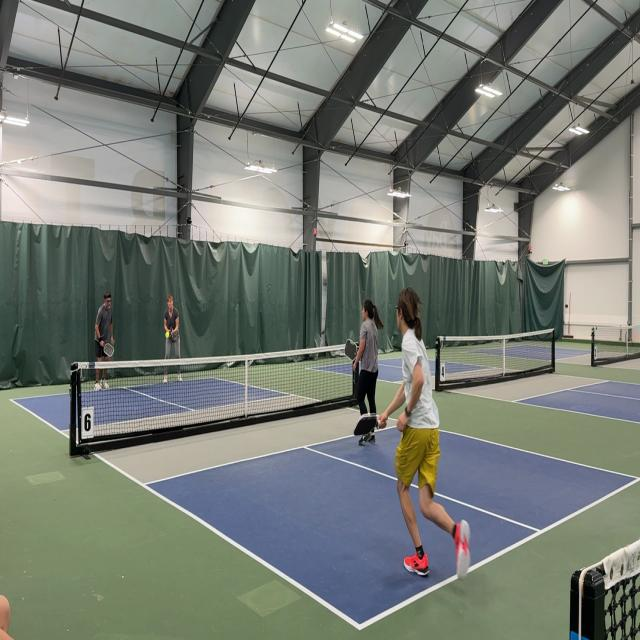ball: (164, 330, 170, 340)
